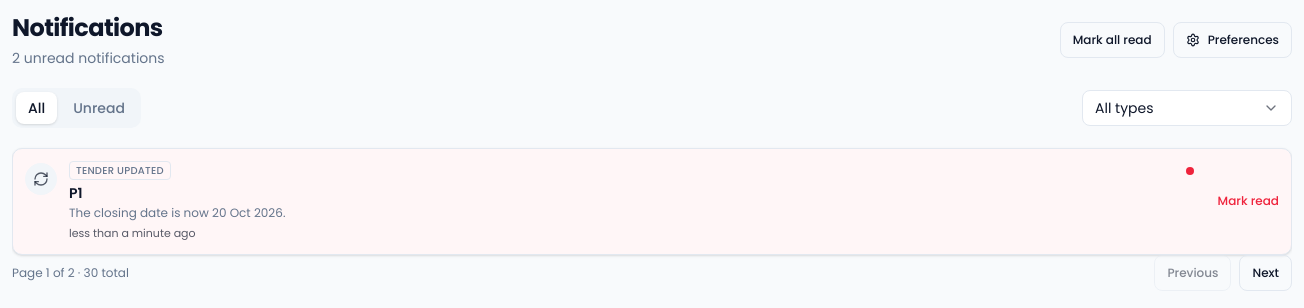
Scenario: Notifications page › paginates on the server
Expected: the text "P1" is shown, [69,183,83,203]
Click the button "Next" at (1266, 273), box [1240,255,1292,291]
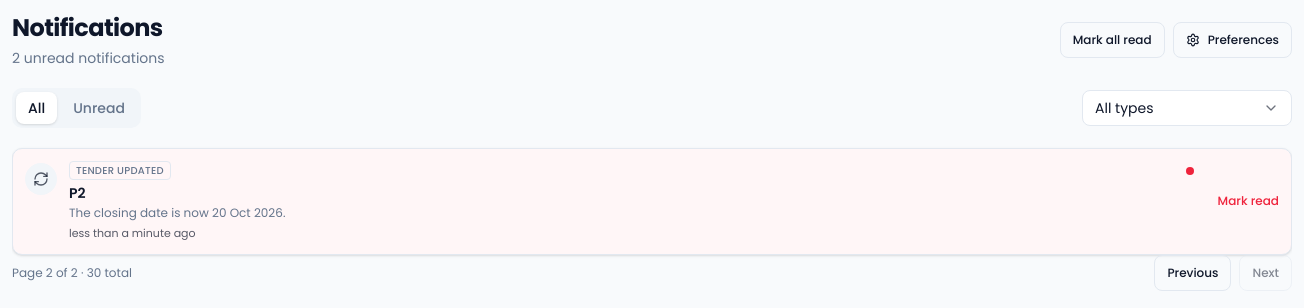
Expected: the text "P2" is shown, [69,183,86,203]
Expected: the button "Next" is disabled, [1240,255,1292,291]
